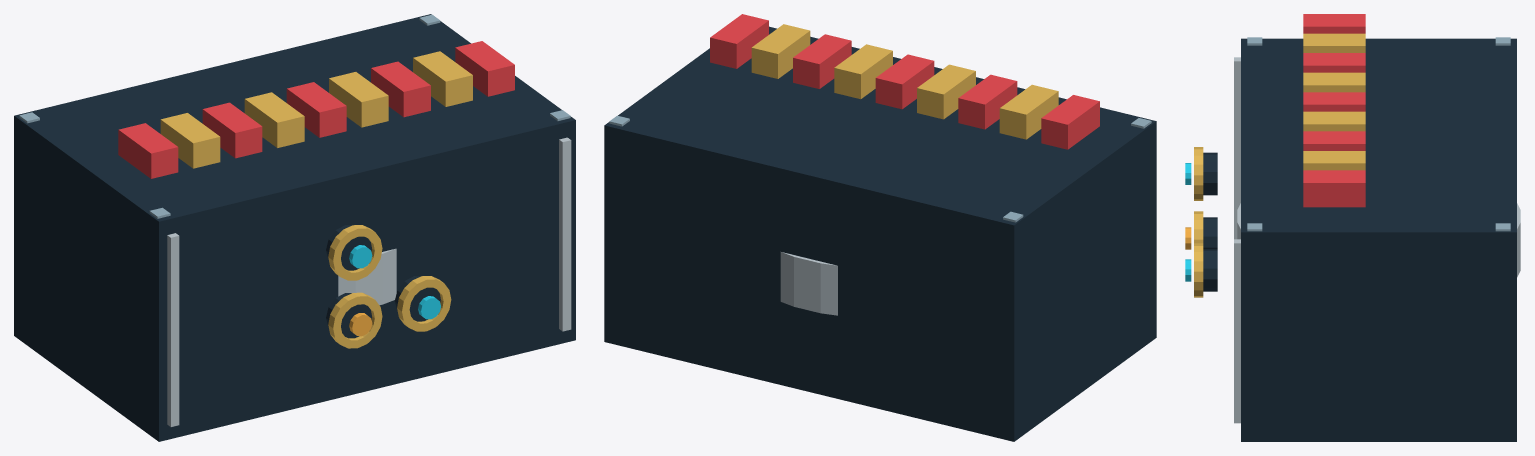
The model's file is 62_L83_SolarGimbalJamSimulator.fbx.
The picture shows the model from 3 angles, left to right: view 1: azimuth 30°, elevation 25°; view 2: azimuth 150°, elevation 25°; view 3: azimuth 270°, elevation 25°; orthographic projection. The views are drawn at different scales.
Visible parts, largest first — view 1: SolarGimbalJamSimulator, SolarGimbalJamSimulator_Part_0016; view 2: SolarGimbalJamSimulator, SolarGimbalJamSimulator_Part_0016; view 3: SolarGimbalJamSimulator, SolarGimbalJamSimulator_Part_0016.
Boxes of the visible parts, x1,y1,x2,y2 form: SolarGimbalJamSimulator: [14, 14, 575, 441]; SolarGimbalJamSimulator_Part_0016: [338, 248, 396, 305]; SolarGimbalJamSimulator: [604, 14, 1156, 441]; SolarGimbalJamSimulator_Part_0016: [780, 252, 837, 315]; SolarGimbalJamSimulator: [1185, 14, 1516, 441]; SolarGimbalJamSimulator_Part_0016: [1237, 203, 1520, 277].
Size of the model in its own units: 103 by 61 by 75.35.
